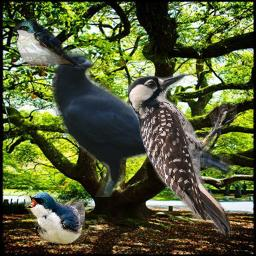Crow: (52, 48, 235, 197)
Swallow: (12, 19, 86, 69), (24, 190, 85, 248)
Woodpecker: (127, 73, 237, 237)
